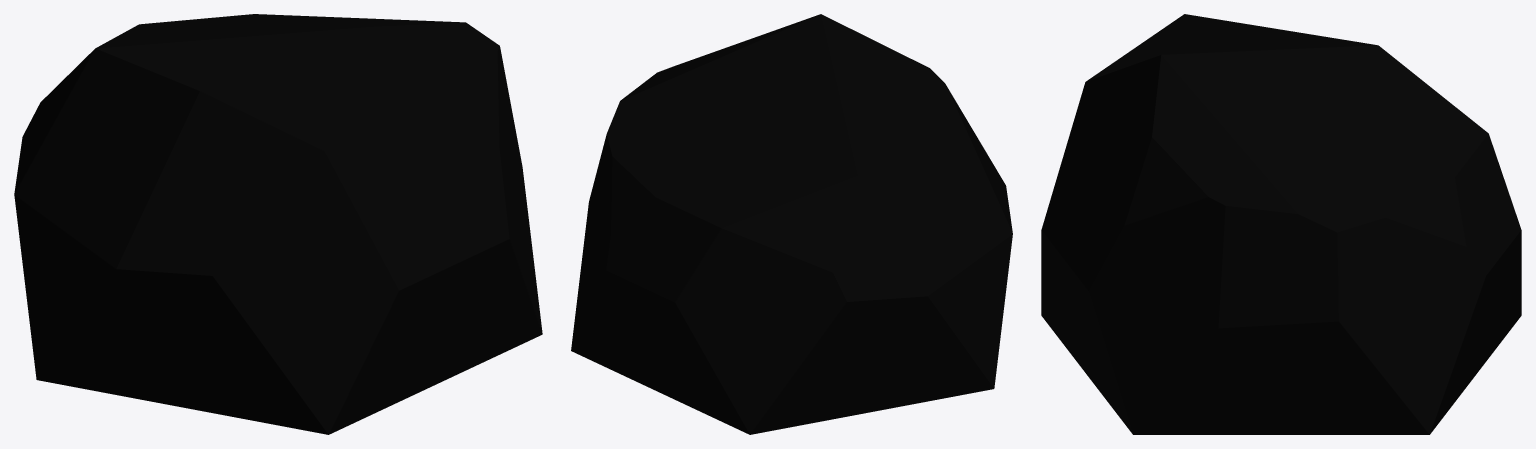
The model's file is Copper Rock 01.fbx.
3 renders of one model, left to right at view 1: azimuth 30°, elevation 25°; view 2: azimuth 150°, elevation 25°; view 3: azimuth 270°, elevation 25°, orthographic. The views are drawn at different scales.
Visible parts, largest first — view 1: Copper Rock 01; view 2: Copper Rock 01; view 3: Copper Rock 01.
Boxes of the visible parts, x1,y1,x2,y2 form: Copper Rock 01: (14,14,542,434); Copper Rock 01: (571,14,1012,434); Copper Rock 01: (1041,14,1521,434).
Bounding box in the file's own units: 172 × 121 × 170.
